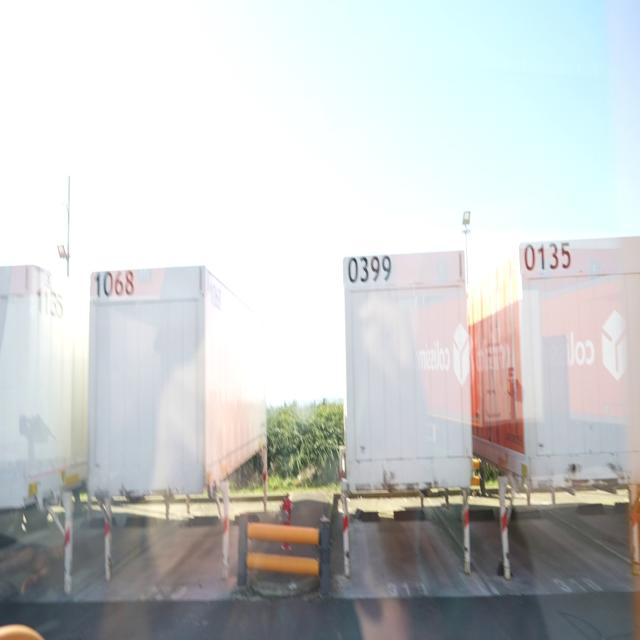Code: (522, 237, 572, 279), (344, 247, 396, 287), (92, 267, 136, 303)
